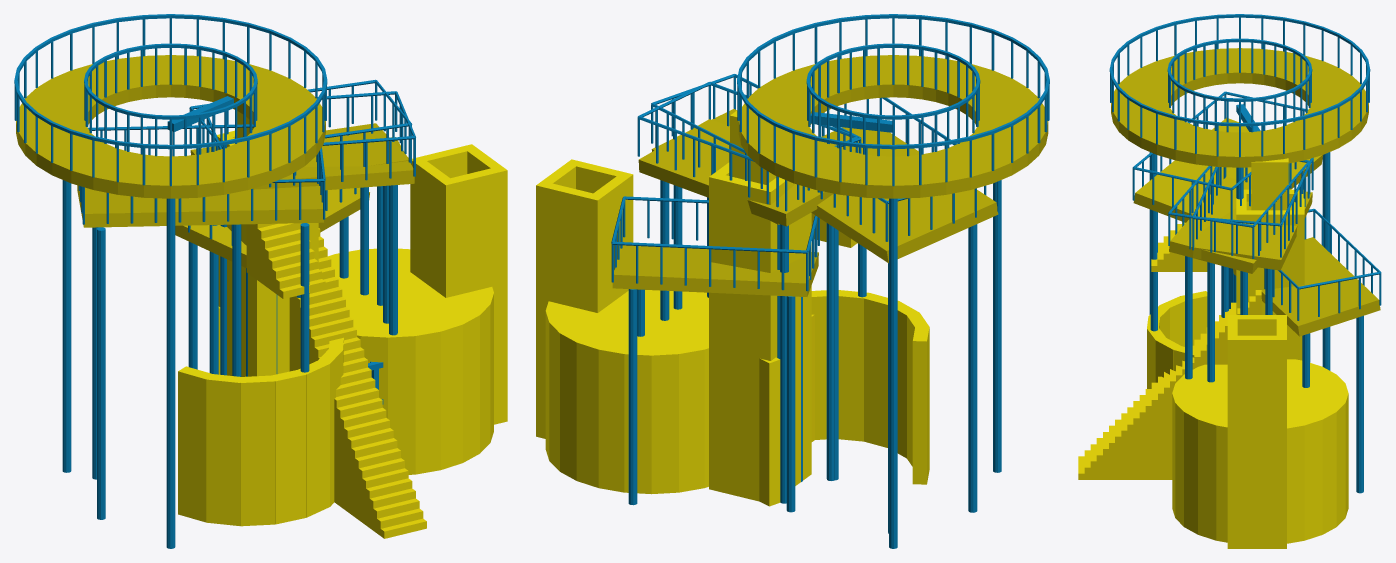
File: folie_tag_064.glb
3 renders of one model, left to right at view 1: azimuth 30°, elevation 25°; view 2: azimuth 150°, elevation 25°; view 3: azimuth 270°, elevation 25°, orthographic. The views are drawn at different scales.
Visible parts, largest first — view 1: folie_tag_064_line, folie_tag_064_01_ring, folie_tag_064_09_curve, folie_tag_064_00_drum, folie_tag_064_stairs, folie_tag_064_08_tower, folie_tag_064_03_plate, folie_tag_064_04_tower, folie_tag_064_06_plate, folie_tag_064_07_plate, folie_tag_064_05_plate; view 2: folie_tag_064_line, folie_tag_064_00_drum, folie_tag_064_01_ring, folie_tag_064_04_tower, folie_tag_064_09_curve, folie_tag_064_08_tower, folie_tag_064_03_plate, folie_tag_064_07_plate, folie_tag_064_05_plate, folie_tag_064_core, folie_tag_064_stairs; view 3: folie_tag_064_line, folie_tag_064_00_drum, folie_tag_064_01_ring, folie_tag_064_08_tower, folie_tag_064_stairs, folie_tag_064_07_plate, folie_tag_064_03_plate, folie_tag_064_04_tower, folie_tag_064_09_curve, folie_tag_064_05_plate, folie_tag_064_06_plate, folie_tag_064_core.
Part boxes in pixels (x1,y1,x2,y2): folie_tag_064_line: [14, 14, 415, 548]; folie_tag_064_01_ring: [16, 55, 325, 198]; folie_tag_064_09_curve: [178, 306, 343, 526]; folie_tag_064_00_drum: [328, 248, 493, 474]; folie_tag_064_stairs: [246, 223, 426, 538]; folie_tag_064_08_tower: [410, 144, 507, 424]; folie_tag_064_03_plate: [77, 185, 323, 227]; folie_tag_064_04_tower: [217, 130, 318, 376]; folie_tag_064_06_plate: [250, 137, 414, 190]; folie_tag_064_07_plate: [175, 187, 369, 267]; folie_tag_064_05_plate: [190, 123, 408, 166]; folie_tag_064_line: [611, 14, 1049, 548]; folie_tag_064_00_drum: [545, 290, 708, 494]; folie_tag_064_01_ring: [738, 55, 1048, 198]; folie_tag_064_04_tower: [709, 162, 811, 501]; folie_tag_064_09_curve: [759, 290, 929, 506]; folie_tag_064_08_tower: [536, 159, 633, 438]; folie_tag_064_03_plate: [811, 127, 998, 263]; folie_tag_064_07_plate: [612, 245, 818, 296]; folie_tag_064_05_plate: [638, 119, 833, 226]; folie_tag_064_core: [730, 110, 776, 184]; folie_tag_064_stairs: [811, 213, 857, 441]; folie_tag_064_line: [1109, 14, 1381, 493]; folie_tag_064_00_drum: [1172, 359, 1348, 543]; folie_tag_064_01_ring: [1111, 48, 1368, 167]; folie_tag_064_08_tower: [1227, 315, 1286, 548]; folie_tag_064_stairs: [1078, 222, 1261, 479]; folie_tag_064_07_plate: [1233, 237, 1380, 336]; folie_tag_064_03_plate: [1133, 118, 1322, 222]; folie_tag_064_04_tower: [1236, 189, 1304, 360]; folie_tag_064_09_curve: [1147, 291, 1207, 388]; folie_tag_064_05_plate: [1193, 189, 1312, 270]; folie_tag_064_06_plate: [1169, 176, 1257, 273]; folie_tag_064_core: [1251, 158, 1288, 210].
Bounding box in the file's own units: 13.17 × 11.34 × 8.94.
